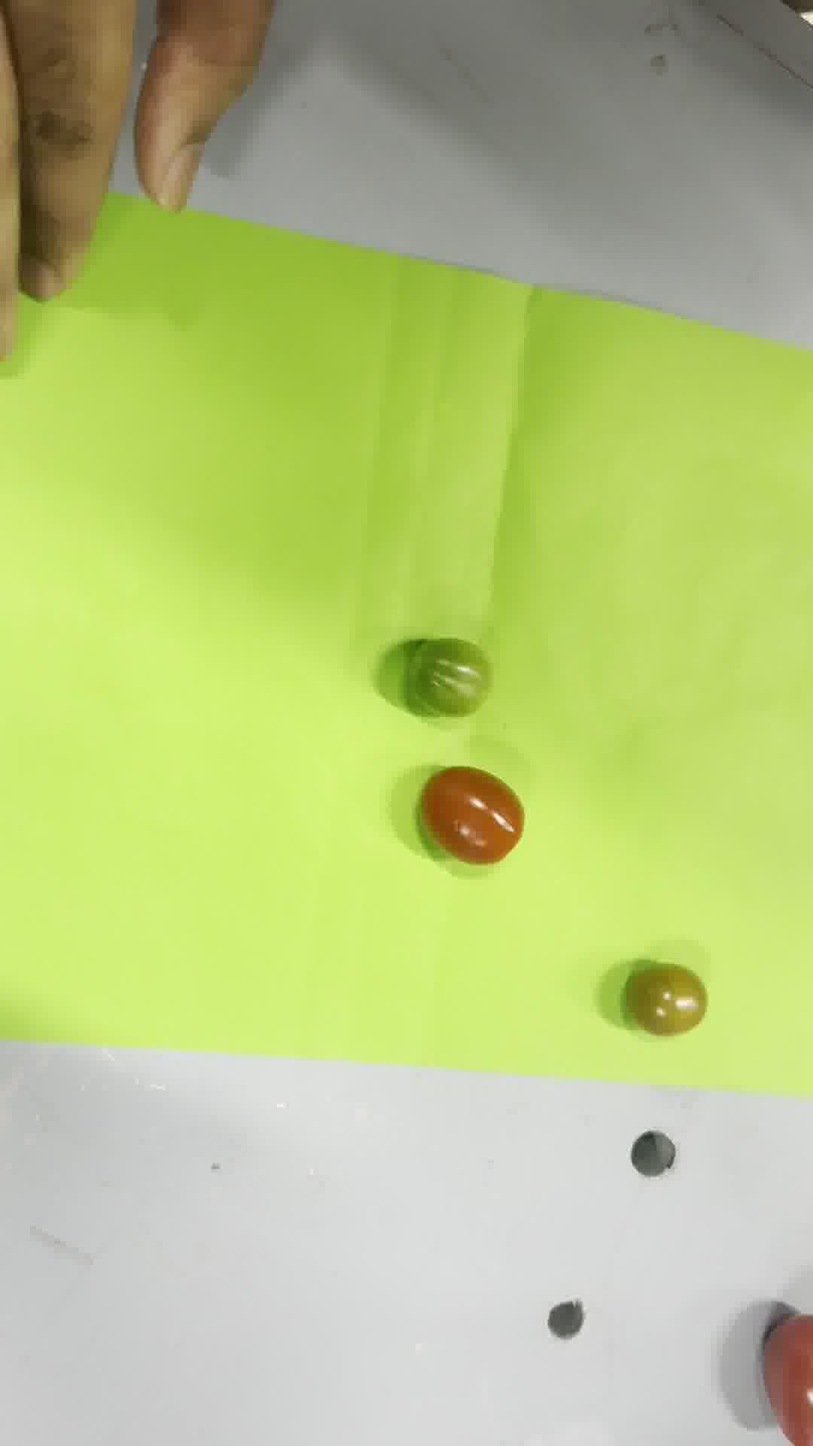green_cherry_tomato: (407, 637, 490, 715)
red_cherry_tomato: (421, 767, 523, 864)
yellow_cherry_tomato: (625, 963, 707, 1036)
